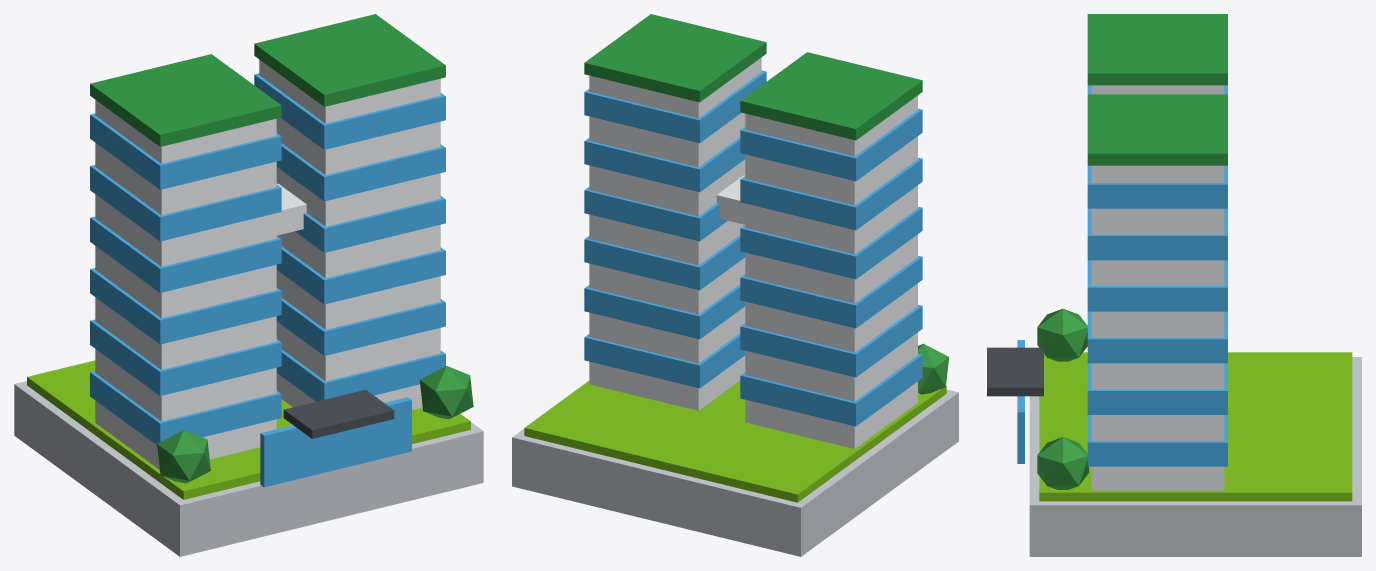
The model's file is house_6.glb.
3 renders of one model, left to right at view 1: azimuth 30°, elevation 25°; view 2: azimuth 150°, elevation 25°; view 3: azimuth 270°, elevation 25°, orthographic. The views are drawn at different scales.
Parts seen in each view (by area): view 1: vidro_azul.001, branco.001, pedra_clara, verde_teto.001, verde, folha_carvalho, lixo; view 2: branco.001, vidro_azul.001, pedra_clara, verde, verde_teto.001, folha_carvalho; view 3: verde, branco.001, vidro_azul.001, pedra_clara, verde_teto.001, folha_carvalho, lixo.
Boxes of the visible parts, x1,y1,x2,y2 form: vidro_azul.001: (90, 73, 445, 487); branco.001: (95, 59, 440, 469); pedra_clara: (14, 381, 483, 556); verde_teto.001: (90, 14, 445, 146); verde: (27, 360, 470, 499); folha_carvalho: (157, 366, 473, 483); lixo: (283, 389, 394, 438); branco.001: (589, 57, 917, 448); vidro_azul.001: (584, 70, 922, 426); pedra_clara: (512, 389, 958, 556); verde: (524, 381, 946, 502); verde_teto.001: (584, 14, 922, 140); folha_carvalho: (918, 343, 949, 394); verde: (1039, 352, 1352, 501); branco.001: (1091, 85, 1224, 490); vidro_azul.001: (1017, 85, 1227, 466); pedra_clara: (1029, 357, 1361, 556); verde_teto.001: (1087, 14, 1227, 165); folha_carvalho: (1037, 308, 1088, 489); lixo: (987, 347, 1043, 396).
Bounding box in the file's own units: 1.89 × 2.32 × 1.98.
